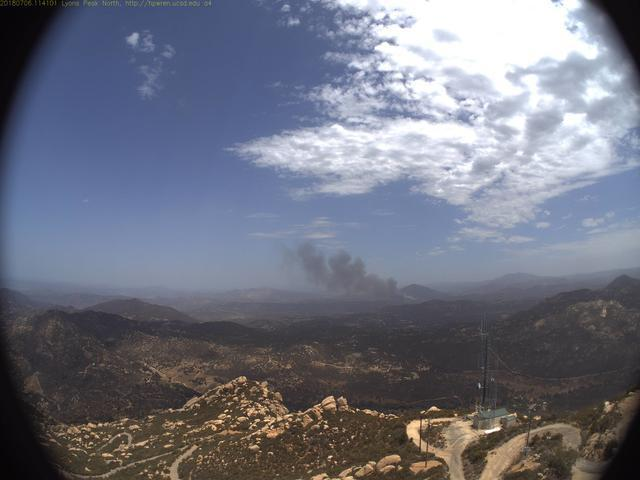wildfire: (274, 229, 454, 311)
